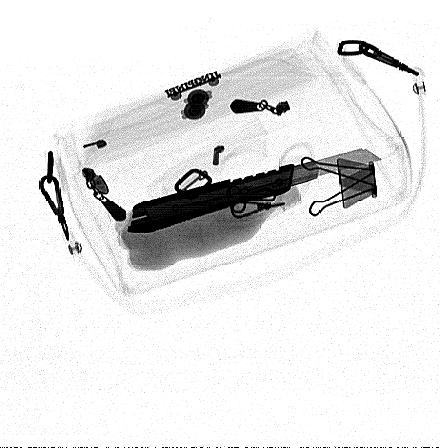Knife: (125, 147, 384, 234)
